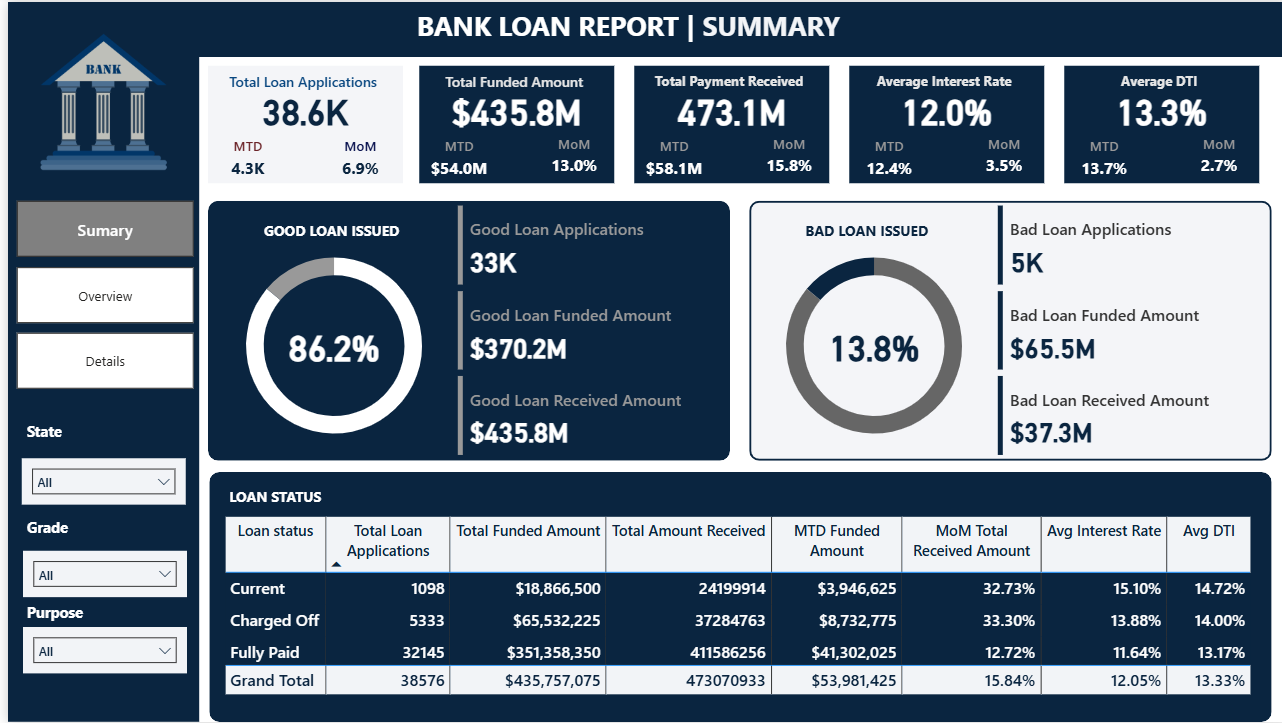

This screenshot's page, from the dashboard's own definition file:
{"tool":"powerbi","page":{"name":"Sumary","canvas":[1280,720],"ordinal":0},"visuals":[{"type":"shape","box":[0,55,191.2,665],"z":0},{"type":"shape","box":[0,0,1279.8,55],"z":1000},{"type":"textbox","box":[403.7,0,472.4,55.2],"z":2000},{"type":"shape","box":[200,63.8,195,117.5],"z":3000},{"type":"card","fields":{"Values":["financial_loan.Total Loan Applications"]},"box":[197.5,80,200,55],"z":4000},{"type":"textbox","box":[197.5,65,195,30],"z":5000},{"type":"card","title":"MTD","fields":{"Values":["financial_loan.MTD Loan Applications"]},"box":[200,135,80,48.8],"z":6000},{"type":"card","title":"MoM","fields":{"Values":["financial_loan.MoM Loan Applications"]},"box":[312.5,135,80,48.8],"z":7000},{"type":"shape","box":[411.2,63.8,195,117.5],"z":8000},{"type":"card","fields":{"Values":["financial_loan.Total Funded Amount"]},"box":[408.8,80,200,55],"z":9000},{"type":"textbox","box":[408.8,65,195,30],"z":10000},{"type":"card","title":"MTD","fields":{"Values":["financial_loan.MTD Funded Amount"]},"box":[411.2,135,80,48.8],"z":11000},{"type":"card","title":"MoM","fields":{"Values":["financial_loan.MoM Funded Amount"]},"box":[526.2,132.5,80,48.8],"z":12000},{"type":"shape","box":[626.4,63.9,195,117.5],"z":13000},{"type":"card","fields":{"Values":["financial_loan.Total Amount Received"]},"box":[623.9,80.2,200,55],"z":14000},{"type":"textbox","box":[623.9,65.2,195,30],"z":15000},{"type":"card","title":"MTD","fields":{"Values":["financial_loan.MTD Total Received Amount"]},"box":[626.4,135.2,80,48.8],"z":16000},{"type":"card","title":"MoM","fields":{"Values":["financial_loan.MoM Total Received Amount"]},"box":[741.4,132.7,80,48.8],"z":17000},{"type":"shape","box":[841.6,64.1,195,117.5],"z":18000},{"type":"card","fields":{"Values":["financial_loan.Avg Interest Rate"]},"box":[839.1,80.4,200,55],"z":19000},{"type":"textbox","box":[839.1,65.4,195,30],"z":20000},{"type":"card","title":"MTD","fields":{"Values":["financial_loan.MTD Int Rate"]},"box":[841.6,135.4,80,48.8],"z":21000},{"type":"card","title":"MoM","fields":{"Values":["financial_loan.MoM Avg Int Rate"]},"box":[956.6,132.9,80,48.8],"z":22000},{"type":"shape","box":[1055.7,63.3,195,117.5],"z":23000},{"type":"card","fields":{"Values":["financial_loan.Avg DTI"]},"box":[1053.2,79.6,200,55],"z":24000},{"type":"textbox","box":[1053.2,64.6,195,30],"z":25000},{"type":"card","title":"MTD","fields":{"Values":["financial_loan.MTD Avg DTI"]},"box":[1055.7,134.6,80,48.8],"z":26000},{"type":"shape","box":[200,198.8,522,260],"z":27000},{"type":"card","title":"MoM","fields":{"Values":["financial_loan.MoM Avg DTI"]},"box":[1170.7,132.1,80,48.8],"z":28000},{"type":"shape","box":[741.2,198.8,522.5,260],"z":29000},{"type":"donutChart","fields":{"Category":["financial_loan.Good VS Bad Loan"],"Y":["financial_loan.Total Loan Applications"]},"box":[201.2,228.8,250,230],"z":30000},{"type":"card","fields":{"Values":["financial_loan.Good Loan Percentage"]},"box":[226.2,316.2,200,55],"z":31000},{"type":"textbox","box":[226.2,213.8,195,30],"z":32000},{"type":"cardVisual","fields":{"Data":["financial_loan.Good Loan Applications","financial_loan.Good Loan Funded Amount","financial_loan.Good Loan Received Amount"]},"box":[445,198.8,278.8,261.2],"z":33000},{"type":"donutChart","fields":{"Category":["financial_loan.Good VS Bad Loan"],"Y":["financial_loan.Total Loan Applications"]},"box":[741.2,228.8,250,230],"z":34000},{"type":"textbox","box":[761.2,213.8,195,30],"z":35000},{"type":"card","fields":{"Values":["financial_loan.Bad Loan Percentage"]},"box":[766.2,316.2,200,55],"z":36000},{"type":"shape","box":[201.2,470,1062.5,250],"z":37000},{"type":"cardVisual","fields":{"Data":["financial_loan.Bad Loan Applications","financial_loan.Bad Loan Funded Amount","financial_loan.Bad Loan Received Amount"]},"box":[985,198.8,278.8,261.2],"z":38000},{"type":"tableEx","fields":{"Values":["financial_loan.loan_status","financial_loan.Total Loan Applications","financial_loan.Total Funded Amount","financial_loan.Total Amount Received","financial_loan.MTD Funded Amount","financial_loan.MoM Total Received Amount","financial_loan.Avg Interest Rate","financial_loan.Avg DTI"]},"box":[211.2,510,1043.8,210],"z":39000},{"type":"textbox","box":[216.2,480,195,30],"z":40000},{"type":"slicer","fields":{"Values":["financial_loan.address_state"]},"box":[13.8,456.2,163.8,46.2],"z":41000},{"type":"textbox","box":[13.8,413.8,163.8,30],"z":42000},{"type":"slicer","fields":{"Values":["financial_loan.grade"]},"box":[15,548.8,163.8,46.2],"z":43000},{"type":"textbox","box":[13.8,510,163.8,30],"z":44000},{"type":"slicer","fields":{"Values":["financial_loan.purpose"]},"box":[15,625,163.8,46.2],"z":45000},{"type":"textbox","box":[13.8,595,163.8,30],"z":46000},{"type":"image","box":[0,0,191.2,198.8],"z":47000},{"type":"pageNavigator","box":[8.8,198.8,177.5,190],"z":48000}]}

Visuals, with their boxes in screenshot pixels (x1, y1, x2, y2), scaled from the page's 1280x720 canvas onto the 1282x723 screenshot:
shape: (0,55,191,722)
shape: (0,0,1281,55)
textbox: (404,0,877,55)
shape: (200,64,396,182)
card - financial_loan.Total Loan Applications: (198,80,398,136)
textbox: (198,65,393,95)
"MTD" card: (200,136,280,185)
"MoM" card: (313,136,393,185)
shape: (412,64,607,182)
card - financial_loan.Total Funded Amount: (409,80,610,136)
textbox: (409,65,605,95)
"MTD" card: (412,136,492,185)
"MoM" card: (527,133,607,182)
shape: (627,64,823,182)
card - financial_loan.Total Amount Received: (625,81,825,136)
textbox: (625,65,820,96)
"MTD" card: (627,136,708,185)
"MoM" card: (743,133,823,182)
shape: (843,64,1038,182)
card - financial_loan.Avg Interest Rate: (840,81,1041,136)
textbox: (840,66,1036,96)
"MTD" card: (843,136,923,185)
"MoM" card: (958,133,1038,182)
shape: (1057,64,1253,182)
card - financial_loan.Avg DTI: (1055,80,1255,135)
textbox: (1055,65,1250,95)
"MTD" card: (1057,135,1137,184)
shape: (200,200,723,461)
"MoM" card: (1173,133,1253,182)
shape: (742,200,1266,461)
donutChart - financial_loan.Good VS Bad Loan x financial_loan.Total Loan Applications: (202,230,452,461)
card - financial_loan.Good Loan Percentage: (227,318,427,373)
textbox: (227,215,422,245)
cardVisual - financial_loan.Good Loan Applications x financial_loan.Good Loan Funded Amount: (446,200,725,462)
donutChart - financial_loan.Good VS Bad Loan x financial_loan.Total Loan Applications: (742,230,993,461)
textbox: (762,215,958,245)
card - financial_loan.Bad Loan Percentage: (767,318,968,373)
shape: (202,472,1266,722)
cardVisual - financial_loan.Bad Loan Applications x financial_loan.Bad Loan Funded Amount: (987,200,1266,462)
tableEx - financial_loan.loan_status x financial_loan.Total Loan Applications: (212,512,1257,722)
textbox: (217,482,412,512)
slicer - financial_loan.address_state: (14,458,178,504)
textbox: (14,416,178,446)
slicer - financial_loan.grade: (15,551,179,597)
textbox: (14,512,178,542)
slicer - financial_loan.purpose: (15,628,179,674)
textbox: (14,597,178,628)
image: (0,0,191,200)
pageNavigator: (9,200,187,390)
